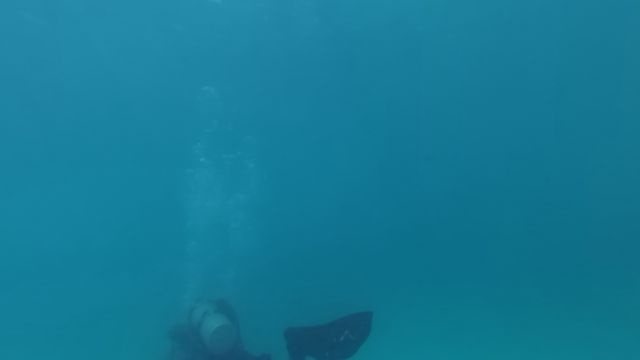Diver: (135, 290, 387, 358)
